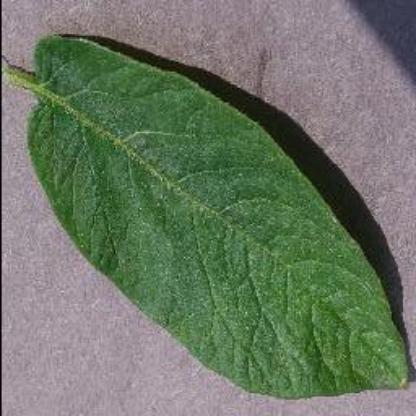Healthy-plant: (2, 33, 410, 400)
